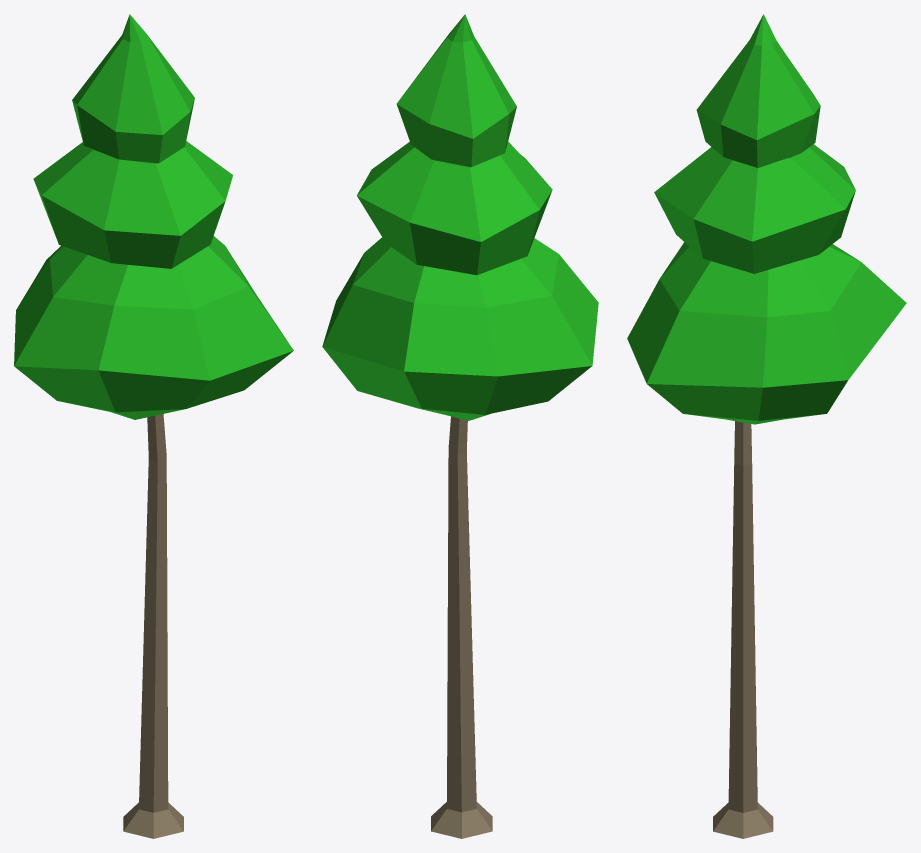
The model's file is SM_Tree_02.FBX.
3 renders of one model, left to right at view 1: azimuth 30°, elevation 25°; view 2: azimuth 150°, elevation 25°; view 3: azimuth 270°, elevation 25°, orthographic. The views are drawn at different scales.
Visible parts, largest first — view 1: SM_Tree_02; view 2: SM_Tree_02; view 3: SM_Tree_02.
Part boxes in pixels (<box>): SM_Tree_02: <box>14,14,293,838</box>; SM_Tree_02: <box>322,14,598,838</box>; SM_Tree_02: <box>627,14,906,838</box>.
Bounding box in the file's own units: 168 × 524 × 165.
Materials: 1 (1 with a texture image).
